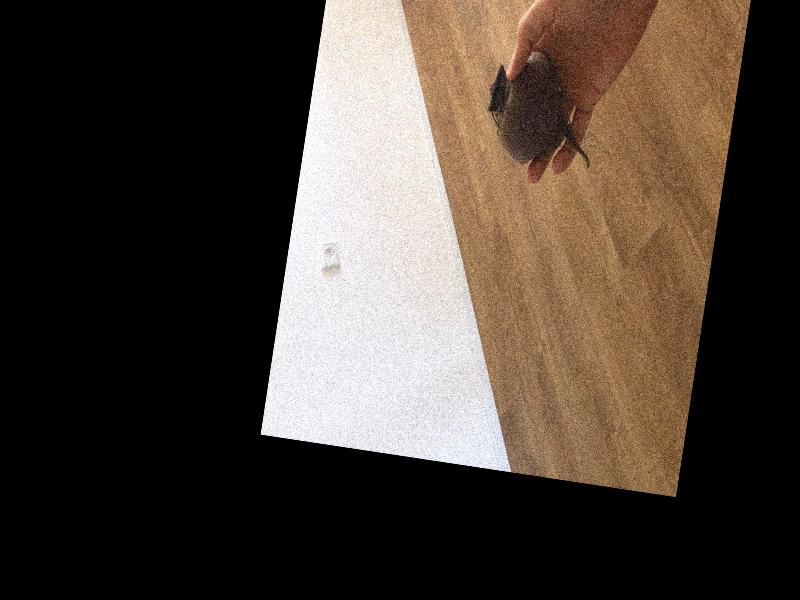Beet: (481, 46, 605, 174)
